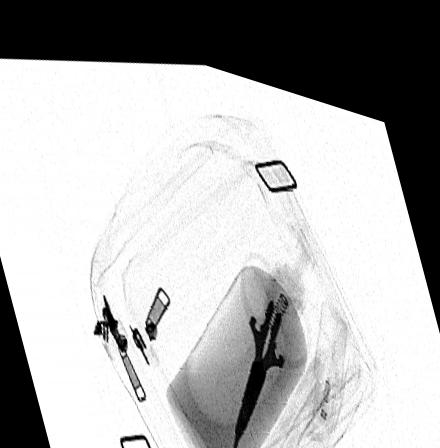Scissors: (231, 231, 314, 436)
